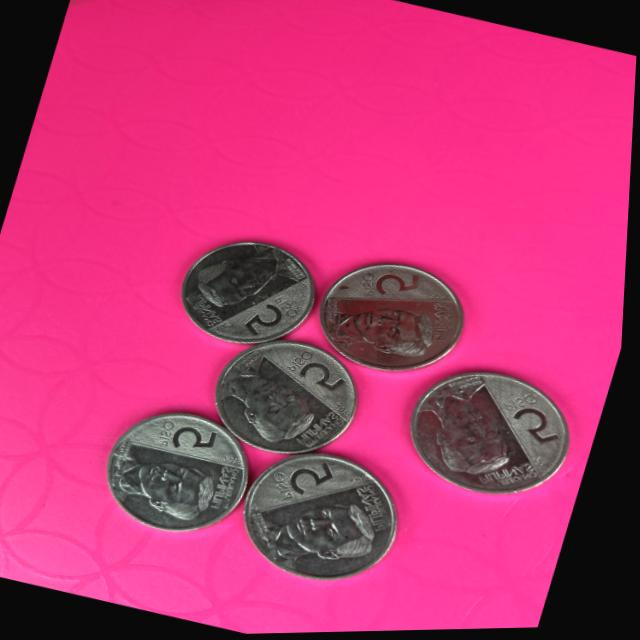5_New_Front: (261, 444, 348, 522), (142, 407, 230, 468), (497, 386, 575, 448), (271, 348, 355, 404), (235, 283, 309, 346), (352, 255, 427, 315)
